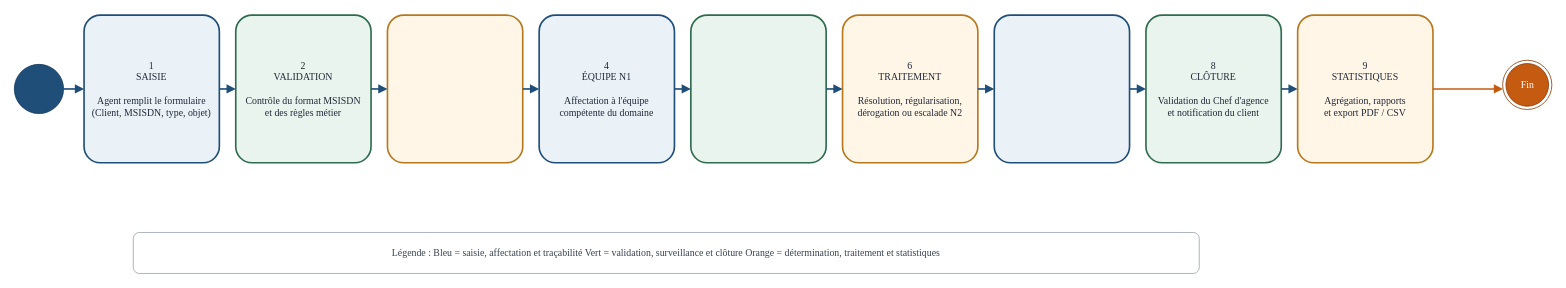
This 1566x288 diagram has some shape labels left out. Each missing label, with the centre of its shape:
3 DOMAINE Détermination automatique du domaine et calcul du SLA: [454,88]
5 SLA Surveillance toutes les 5 min Escalade si dépassement: [758,88]
7 HISTORIQUE Enregistrement de chaque action (statut, date, utilisateur): [1061,88]
Début: [39,89]
